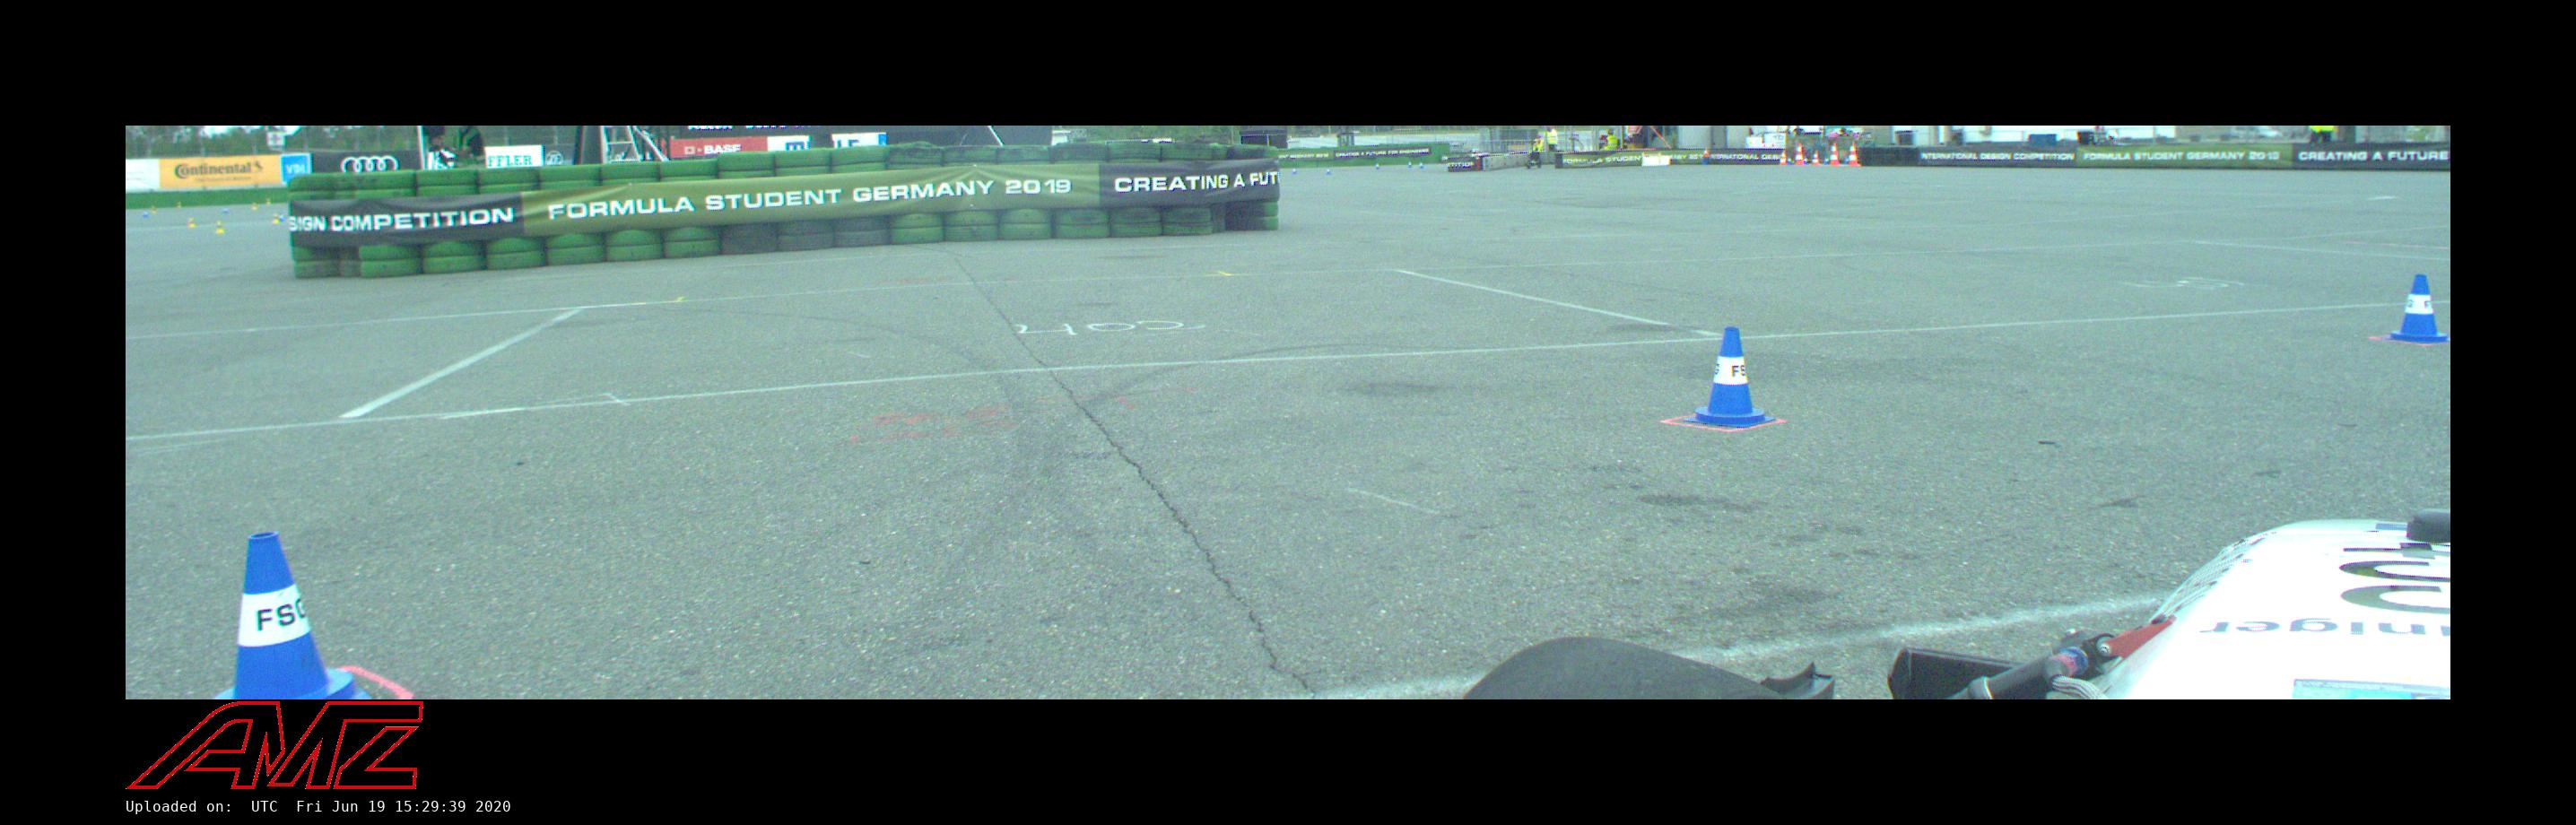blue_cone: (209, 532, 371, 700), (1682, 327, 1776, 427), (2382, 274, 2449, 342), (278, 212, 284, 222), (141, 210, 148, 219), (222, 207, 228, 214), (1291, 168, 1296, 174), (1326, 168, 1331, 174), (1419, 161, 1423, 169), (1377, 163, 1380, 169), (1408, 161, 1411, 168)
large_orange_cone: (1810, 150, 1820, 166), (1779, 150, 1787, 164)
yellow_cone: (215, 222, 223, 233), (187, 217, 194, 228), (273, 214, 279, 224), (251, 200, 256, 210), (151, 207, 154, 214)
